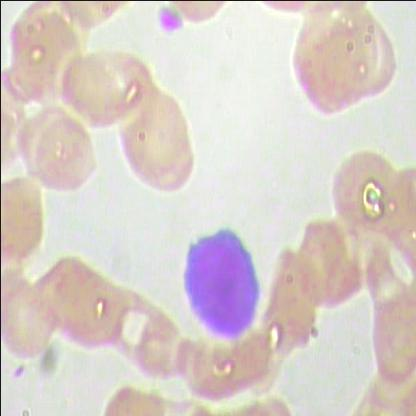RBC: (282, 0, 386, 122), (112, 82, 202, 196), (56, 49, 155, 134), (12, 104, 98, 197), (326, 146, 398, 236), (34, 253, 102, 341), (62, 272, 130, 360), (1, 276, 64, 364)
WBC: (176, 212, 268, 340)
